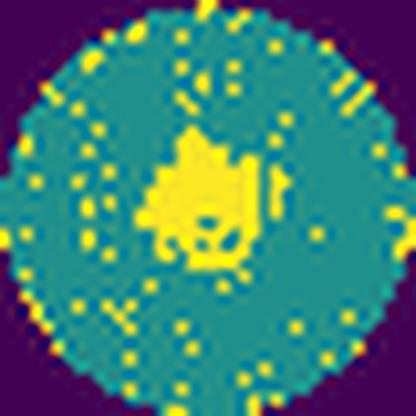Center: (134, 124, 261, 274)
